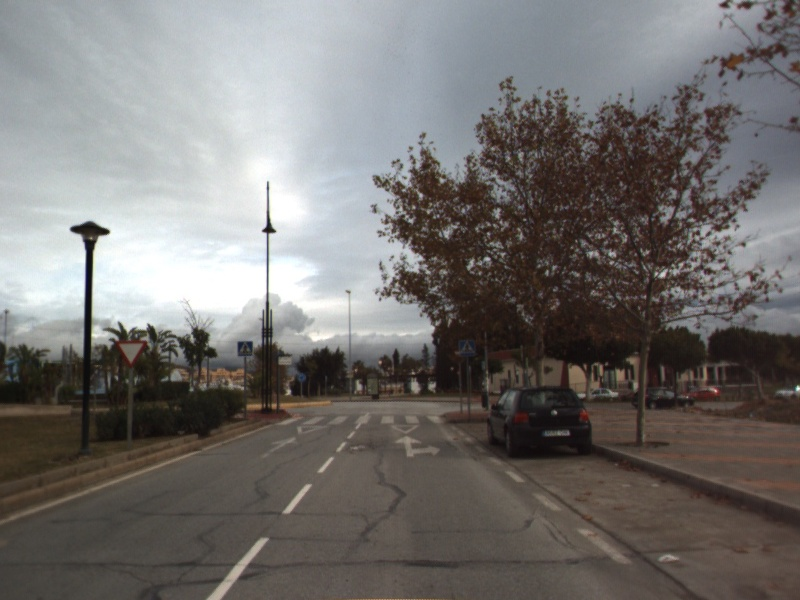STRAIGHT: (258, 434, 301, 460)
STRAIGHT_RIGHT: (392, 434, 442, 459)
